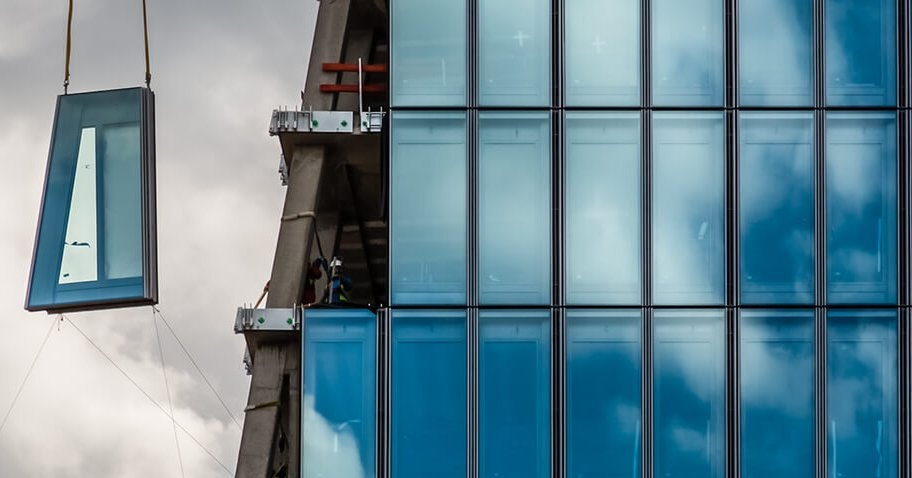glass panel: (36, 91, 148, 304), (561, 113, 644, 301), (735, 113, 818, 300), (391, 113, 470, 300), (476, 112, 554, 300), (650, 114, 727, 302), (823, 114, 900, 301), (736, 311, 819, 476), (562, 312, 645, 476), (389, 311, 471, 476), (298, 310, 379, 476), (824, 311, 902, 476), (476, 312, 554, 476), (650, 311, 727, 476), (735, 0, 817, 107), (390, 0, 470, 106), (562, 0, 640, 106), (823, 0, 900, 106), (477, 0, 553, 106), (652, 0, 727, 107), (906, 3, 912, 106)
